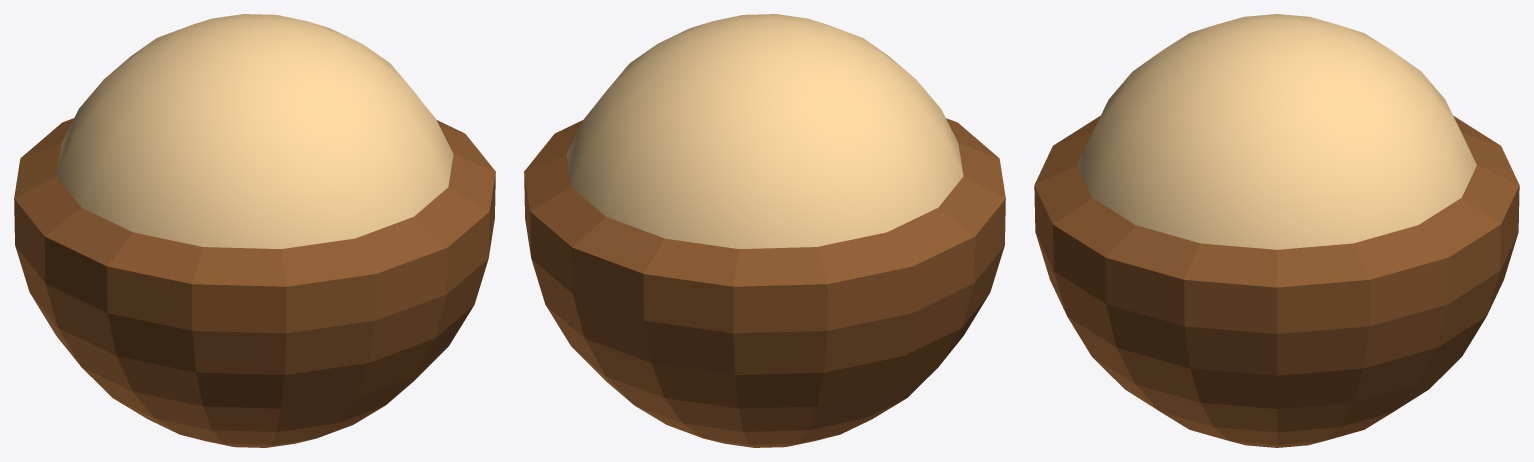
Rendered from PlayerBase.glb.
3 renders of one model, left to right at view 1: azimuth 30°, elevation 25°; view 2: azimuth 150°, elevation 25°; view 3: azimuth 270°, elevation 25°, orthographic.
Visible parts, largest first — view 1: OrbContainer, OrbMat; view 2: OrbContainer, OrbMat; view 3: OrbContainer, OrbMat.
Boxes of the visible parts, x1=… form: OrbContainer: x1=14, y1=118, x2=495, y2=447; OrbMat: x1=56, y1=14, x2=453, y2=248; OrbContainer: x1=524, y1=118, x2=1005, y2=447; OrbMat: x1=566, y1=14, x2=963, y2=248; OrbContainer: x1=1034, y1=116, x2=1519, y2=447; OrbMat: x1=1077, y1=14, x2=1476, y2=249.
Size of the model in its own units: 3.16 by 2.85 by 3.16.
